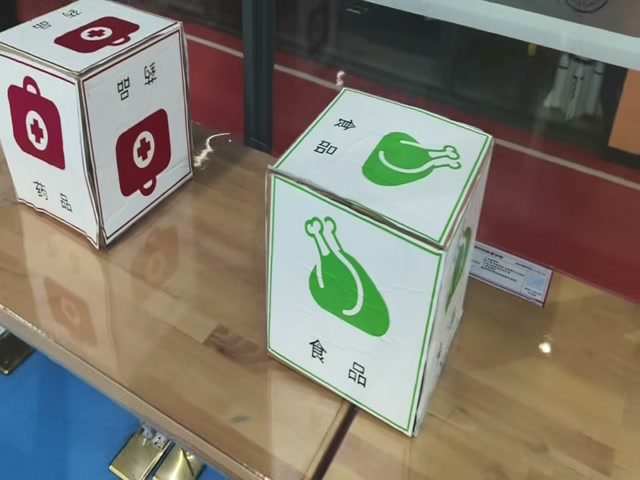Cube_food: (266, 83, 501, 254)
Cube_medicine: (0, 0, 173, 81)
